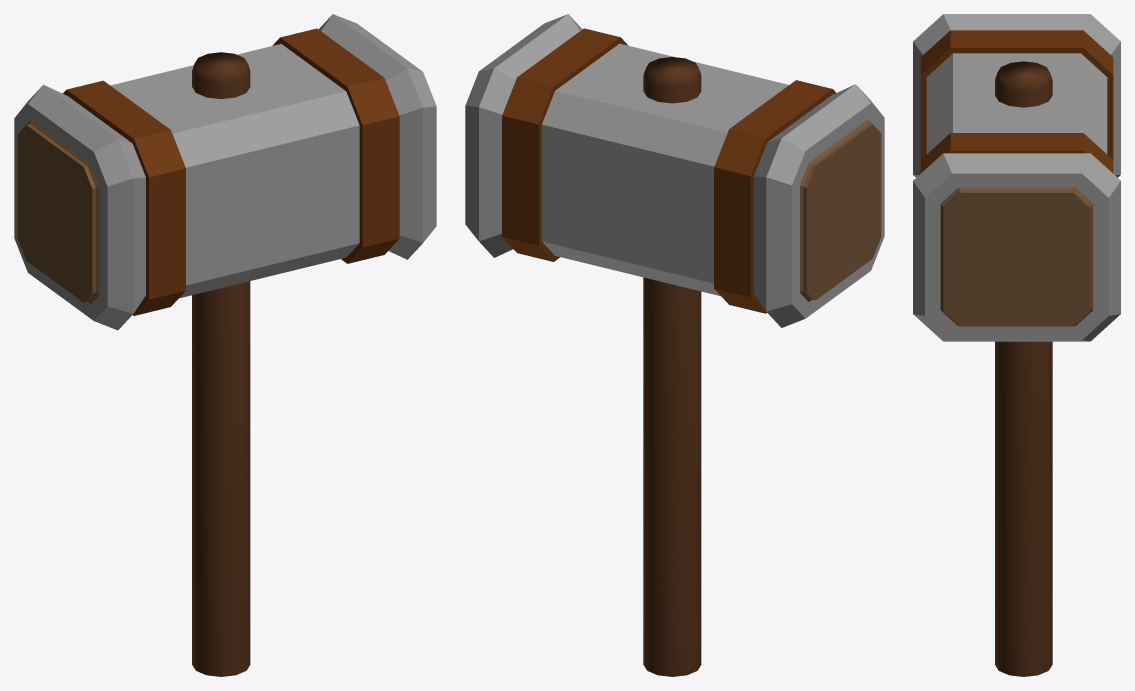
File: hammer (2).fbx
3 views of the same model, side by side, from view 1: azimuth 30°, elevation 25°; view 2: azimuth 150°, elevation 25°; view 3: azimuth 270°, elevation 25° (orthographic).
Parts seen in each view (by area): view 1: cabeza, palo; view 2: cabeza, palo; view 3: cabeza, palo.
Boxes of the visible parts, x1,y1,x2,y2 form: cabeza: (14, 14, 436, 330); palo: (192, 52, 250, 676); cabeza: (465, 14, 884, 327); palo: (643, 57, 701, 676); cabeza: (913, 14, 1120, 341); palo: (995, 61, 1052, 676).
Size of the model in its own units: 208 by 350 by 111.
